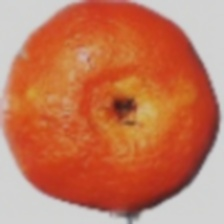tangerine: (16, 5, 210, 182)
